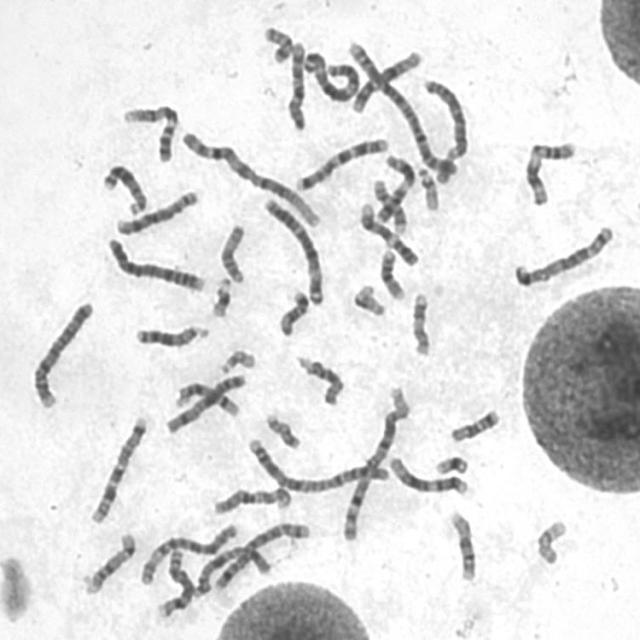A1: (176, 126, 325, 229), (337, 380, 415, 544)
A2: (343, 36, 462, 182), (244, 434, 393, 494)
A3: (259, 191, 327, 307), (300, 45, 362, 103)
B4: (26, 295, 96, 410), (102, 232, 208, 295)
B5: (208, 516, 314, 595), (509, 220, 616, 289)
C10: (208, 481, 294, 516), (283, 36, 308, 133)
C11: (519, 134, 578, 206), (371, 150, 417, 226)
C12: (347, 44, 425, 115), (383, 450, 472, 498)
C6: (135, 520, 240, 586), (418, 73, 470, 163)
C7: (85, 410, 151, 526), (291, 132, 391, 192)
C8: (111, 186, 201, 236), (152, 544, 195, 619)
C9: (356, 202, 421, 268), (116, 99, 180, 164)
D13: (98, 158, 150, 216), (130, 318, 210, 349)
D14: (79, 528, 138, 596), (170, 378, 240, 418)
D15: (292, 351, 346, 408), (215, 218, 248, 285)
E16: (444, 505, 478, 583), (376, 244, 407, 302)
E17: (368, 174, 409, 235), (407, 287, 434, 358)
E18: (446, 404, 503, 444), (274, 285, 311, 338)
F19: (532, 514, 569, 566), (352, 284, 387, 317)
F20: (261, 407, 303, 451), (258, 21, 294, 65)
G21: (206, 272, 234, 320), (430, 450, 470, 477)
G22: (412, 160, 441, 214), (216, 344, 258, 375)
X: (160, 370, 248, 436), (192, 545, 271, 600)
